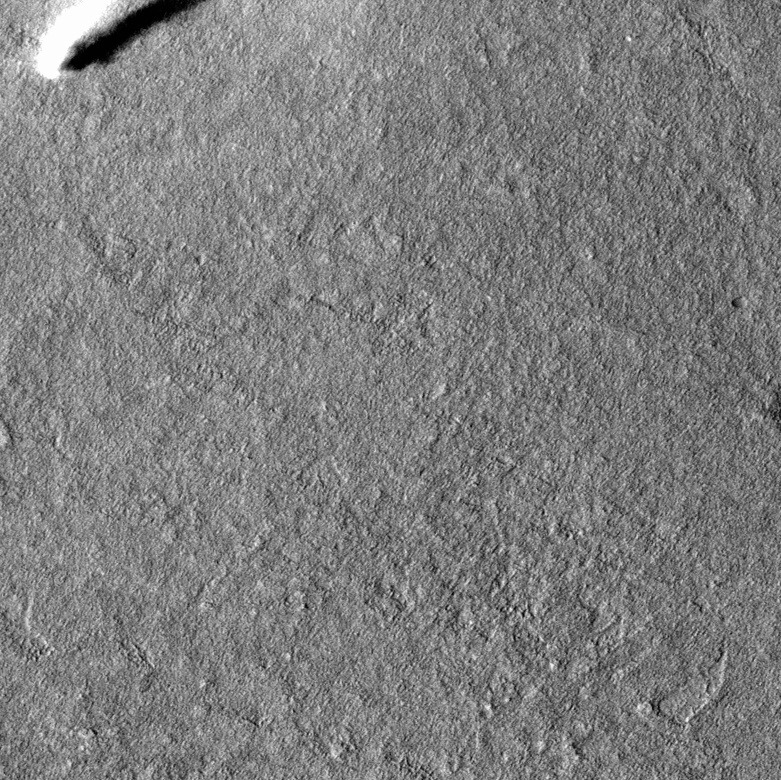dust_devil: (32, 1, 212, 82)
